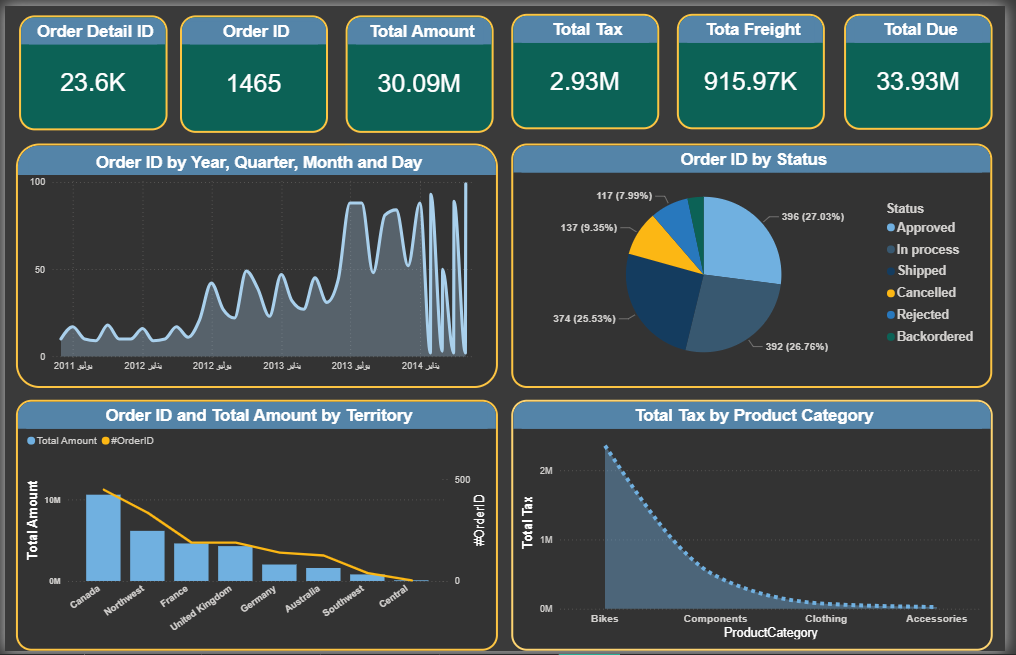

What the dashboard file says about the page in this screenshot:
{"tool":"powerbi","page":{"name":"Page 1","canvas":[1280,825],"ordinal":0},"visuals":[{"type":"card","title":"Order Detail ID","fields":{"Values":["Sales.#OrderDetail_ID"]},"box":[17.1,11.4,190,147.1],"z":0},{"type":"card","title":"Order ID","fields":{"Values":["Sales.#OrderID"]},"box":[223.7,11.3,189.5,150.2],"z":1000},{"type":"card","title":"Total Amount","fields":{"Values":["Sales.Total Amount"]},"box":[436.7,11.3,189.5,150.2],"z":2000},{"type":"card","title":"Total Tax","fields":{"Values":["Sales.Total Tax"]},"box":[647.7,10.4,189.5,147.8],"z":3000},{"type":"card","title":"Total Due","fields":{"Values":["Sales.Total Due"]},"box":[1073.7,9.7,190,148.6],"z":4000},{"type":"card","title":"Tota Freight","fields":{"Values":["Sales.Total Freight"]},"box":[860.7,10.4,189.5,147.8],"z":5000},{"type":"pieChart","title":"Order ID by Status","fields":{"Y":["Measures (2).#OrderID"],"Category":["Sales.Status"]},"box":[648,176.3,615.7,312.9],"z":6000},{"type":"lineChart","title":"Order ID by Year, Quarter, Month and Day","fields":{"Y":["Measures (2).#OrderID"],"Category":["Sales.OrderDate.Variation.Date Hierarchy.Year","Sales.OrderDate.Variation.Date Hierarchy.Quarter","Sales.OrderDate.Variation.Date Hierarchy.Month","Sales.OrderDate.Variation.Date Hierarchy.Day"]},"box":[14.3,175.7,617.1,312.9],"z":7000},{"type":"lineClusteredColumnComboChart","title":"Order ID and Total Amount by Territory","fields":{"Category":["Sales.Territory"],"Y":["Measures (2).Total Amount"],"Y2":["Measures (2).#OrderID"]},"box":[14.3,504.3,617.1,321.4],"z":8000},{"type":"treemap","title":"Order Detail_ID by Product Category","fields":{"Group":["Sales.ProductCategory","Sales.ProductSubCategory","Sales.Product"],"Values":["Measures (2).#OrderDetail_ID"]},"box":[648,504,616,321],"z":8001}]}

Visuals, with their boxes in screenshot pixels (x1, y1, x2, y2), scaled from the page's 1280x825 canvas onto the 1016x655 screenshot:
"Order Detail ID" card: <region>14, 9, 164, 126</region>
"Order ID" card: <region>178, 9, 328, 128</region>
"Total Amount" card: <region>347, 9, 497, 128</region>
"Total Tax" card: <region>514, 8, 665, 126</region>
"Total Due" card: <region>852, 8, 1003, 126</region>
"Tota Freight" card: <region>683, 8, 834, 126</region>
"Order ID by Status" pieChart: <region>514, 140, 1003, 388</region>
"Order ID by Year, Quarter, Month and Day" lineChart: <region>11, 139, 501, 388</region>
"Order ID and Total Amount by Territory" lineClusteredColumnComboChart: <region>11, 400, 501, 654</region>
"Order Detail_ID by Product Category" treemap: <region>514, 400, 1003, 654</region>
